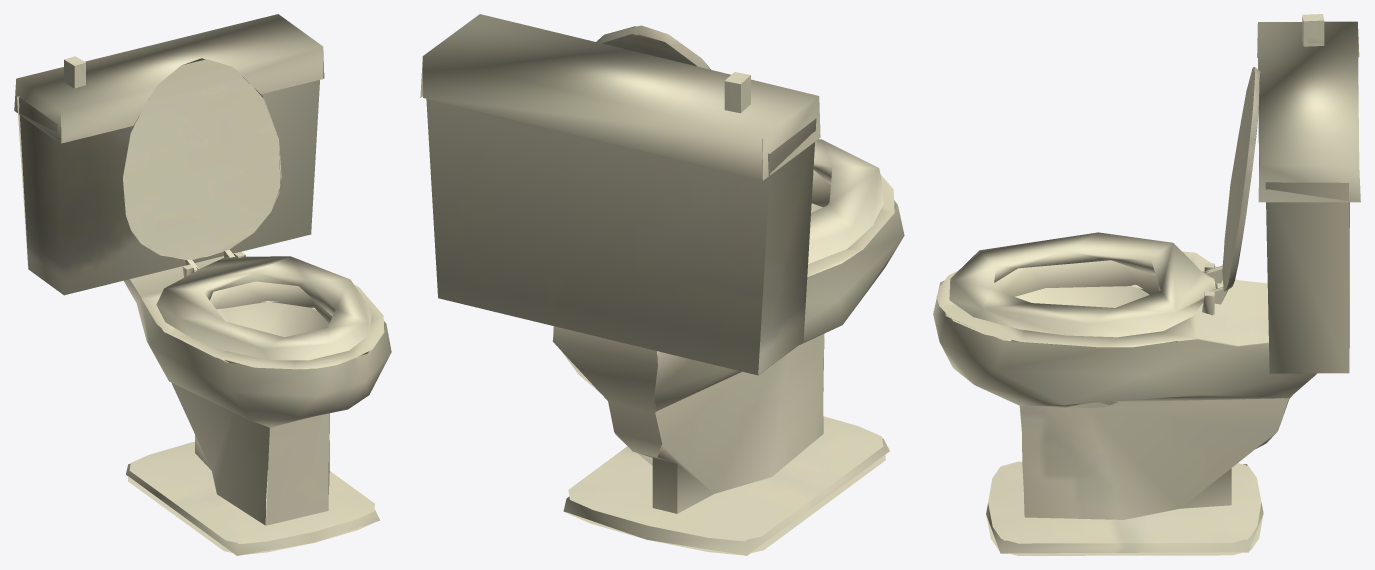
The picture shows the model from 3 angles, left to right: view 1: azimuth 30°, elevation 25°; view 2: azimuth 150°, elevation 25°; view 3: azimuth 270°, elevation 25°; orthographic projection. The views are drawn at different scales.
Visible parts, largest first — view 1: Cube; view 2: Cube; view 3: Cube.
Part boxes in pixels (x1,y1,x2,y2): Cube: (14, 14, 391, 555); Cube: (420, 14, 904, 555); Cube: (933, 14, 1360, 555).
Size of the model in its own units: 3.14 by 4.44 by 3.87.
Materials: 1 (1 with a texture image).
